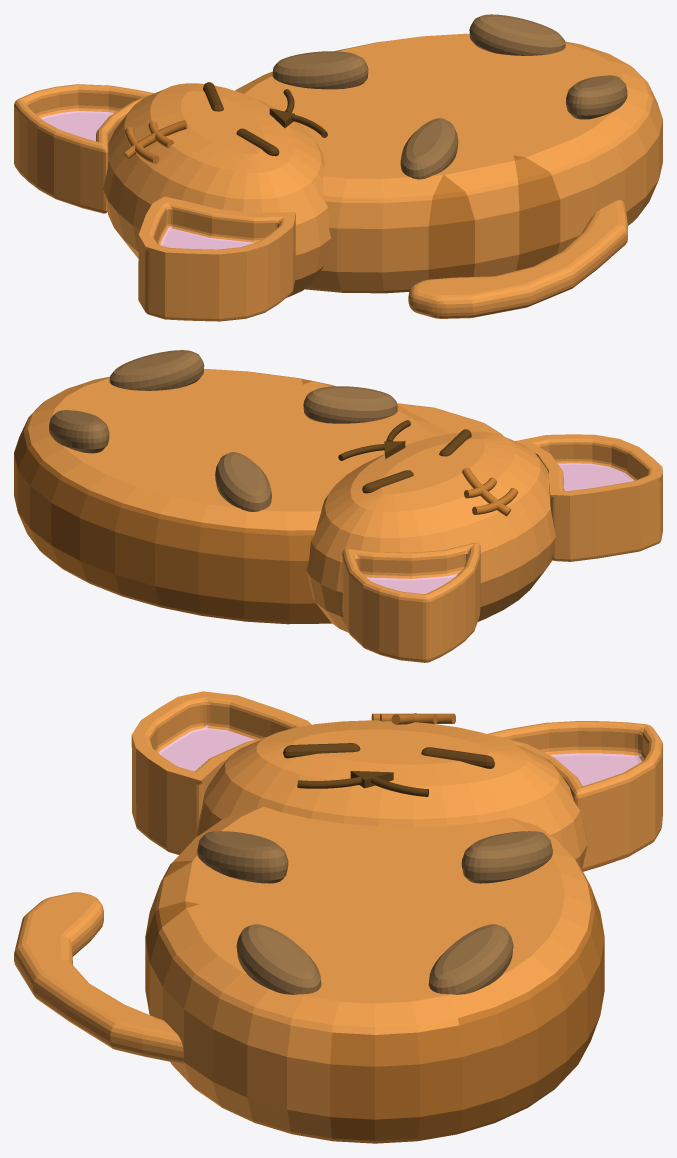
Rendered from lelascutecat.fbx.
The picture shows the model from 3 angles, top to bottom: view 1: azimuth 30°, elevation 25°; view 2: azimuth 150°, elevation 25°; view 3: azimuth 270°, elevation 25°; orthographic projection. The views are drawn at different scales.
Visible parts, largest first — view 1: Circle, Circle.003, Plane, Plane.001, Plane.002, Circle.001, Circle.002, NurbsCurve.001, Plane.003, NurbsCurve; view 2: Circle, Circle.003, Plane.001, Plane, Circle.001, Circle.002, Plane.002, NurbsCurve.001, Plane.003, NurbsCurve; view 3: Circle, Circle.003, Plane, Plane.001, Plane.002, Circle.002, Circle.001, Plane.003, NurbsCurve, NurbsCurve.001.
Part boxes in pixels (x1=…): Circle: x1=235, y1=33, x2=662, y2=293; Circle.003: x1=103, y1=83, x2=330, y2=297; Plane: x1=138, y1=196, x2=296, y2=321; Plane.001: x1=14, y1=84, x2=154, y2=213; Plane.002: x1=408, y1=200, x2=627, y2=318; Circle.001: x1=272, y1=51, x2=458, y2=179; Circle.002: x1=469, y1=14, x2=627, y2=119; NurbsCurve.001: x1=123, y1=120, x2=187, y2=163; Plane.003: x1=203, y1=82, x2=279, y2=156; NurbsCurve: x1=283, y1=89, x2=327, y2=137; Circle: x1=14, y1=369, x2=446, y2=624; Circle.003: x1=306, y1=431, x2=555, y2=632; Plane.001: x1=342, y1=542, x2=480, y2=662; Plane: x1=515, y1=434, x2=662, y2=561; Circle.001: x1=215, y1=386, x2=397, y2=511; Circle.002: x1=49, y1=350, x2=204, y2=453; Plane.002: x1=397, y1=403, x2=503, y2=435; NurbsCurve.001: x1=462, y1=467, x2=518, y2=516; Plane.003: x1=362, y1=429, x2=471, y2=493; NurbsCurve: x1=338, y1=420, x2=410, y2=460; Circle: x1=145, y1=806, x2=604, y2=1143; Circle.003: x1=197, y1=720, x2=587, y2=868; Plane: x1=131, y1=691, x2=311, y2=854; Plane.001: x1=487, y1=721, x2=662, y2=871; Plane.002: x1=14, y1=892, x2=183, y2=1064; Circle.002: x1=236, y1=924, x2=513, y2=994; Circle.001: x1=197, y1=831, x2=552, y2=883; Plane.003: x1=283, y1=743, x2=494, y2=768; NurbsCurve: x1=297, y1=776, x2=428, y2=796; NurbsCurve.001: x1=371, y1=713, x2=455, y2=724.
Size of the model in its own units: 260 by 67.12 by 212.
